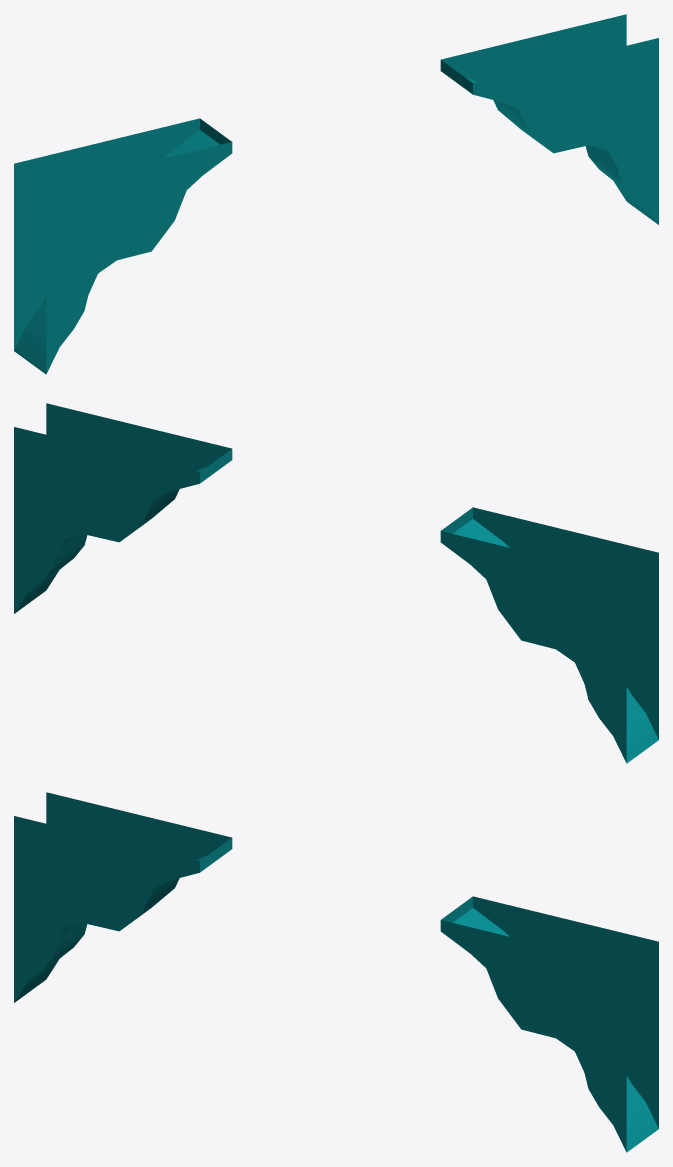
The model's file is ridgepole_002.fbx.
The picture shows the model from 3 angles, top to bottom: view 1: azimuth 30°, elevation 25°; view 2: azimuth 150°, elevation 25°; view 3: azimuth 330°, elevation 25°; orthographic projection.
Parts seen in each view (by area): view 1: ridgepole_002; view 2: ridgepole_002; view 3: ridgepole_002.
Boxes of the visible parts, x1,y1,x2,y2 form: ridgepole_002: [14, 14, 658, 374]; ridgepole_002: [14, 403, 658, 763]; ridgepole_002: [14, 792, 658, 1152].
Bounding box in the file's own units: 329 × 96.04 × 30.
1 material, 1 textured.
